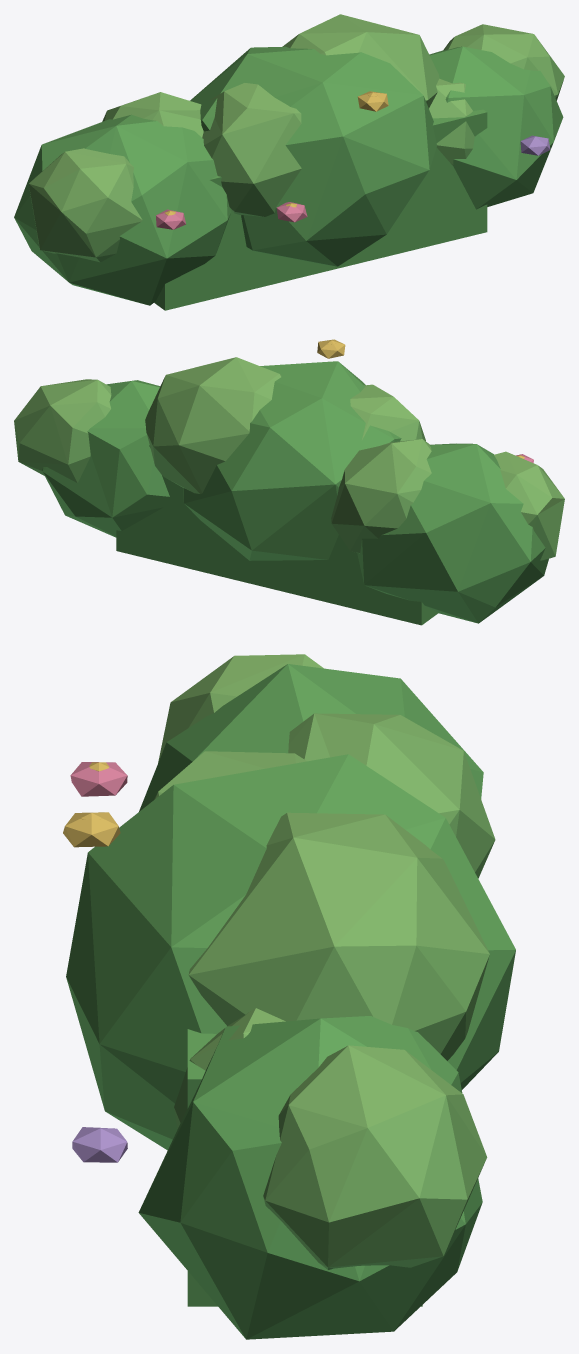
File: ranch_border_hedge_round.fbx
3 views of the same model, one above another, from view 1: azimuth 30°, elevation 25°; view 2: azimuth 150°, elevation 25°; view 3: azimuth 270°, elevation 25° (orthographic). The views are drawn at different scales.
Visible parts, largest first — view 1: ranch_border_hedge_round; view 2: ranch_border_hedge_round; view 3: ranch_border_hedge_round.
Part boxes in pixels (bbox=[...]): ranch_border_hedge_round: bbox=[14, 14, 564, 310]; ranch_border_hedge_round: bbox=[14, 339, 564, 625]; ranch_border_hedge_round: bbox=[63, 654, 515, 1339].
Size of the model in its own units: 15.06 by 5.51 by 5.79.
